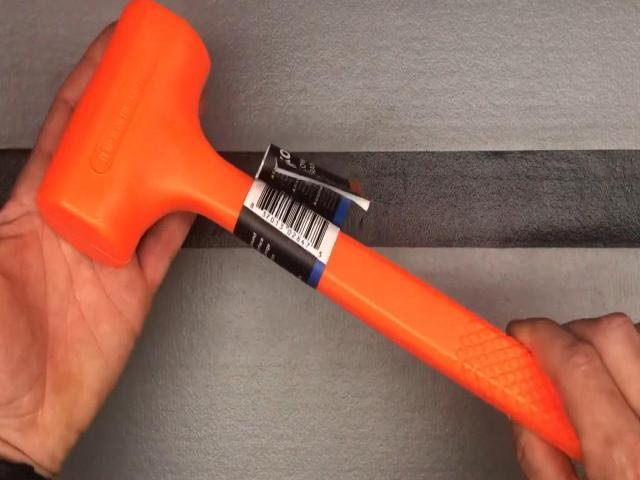hammer: (35, 0, 640, 475)
